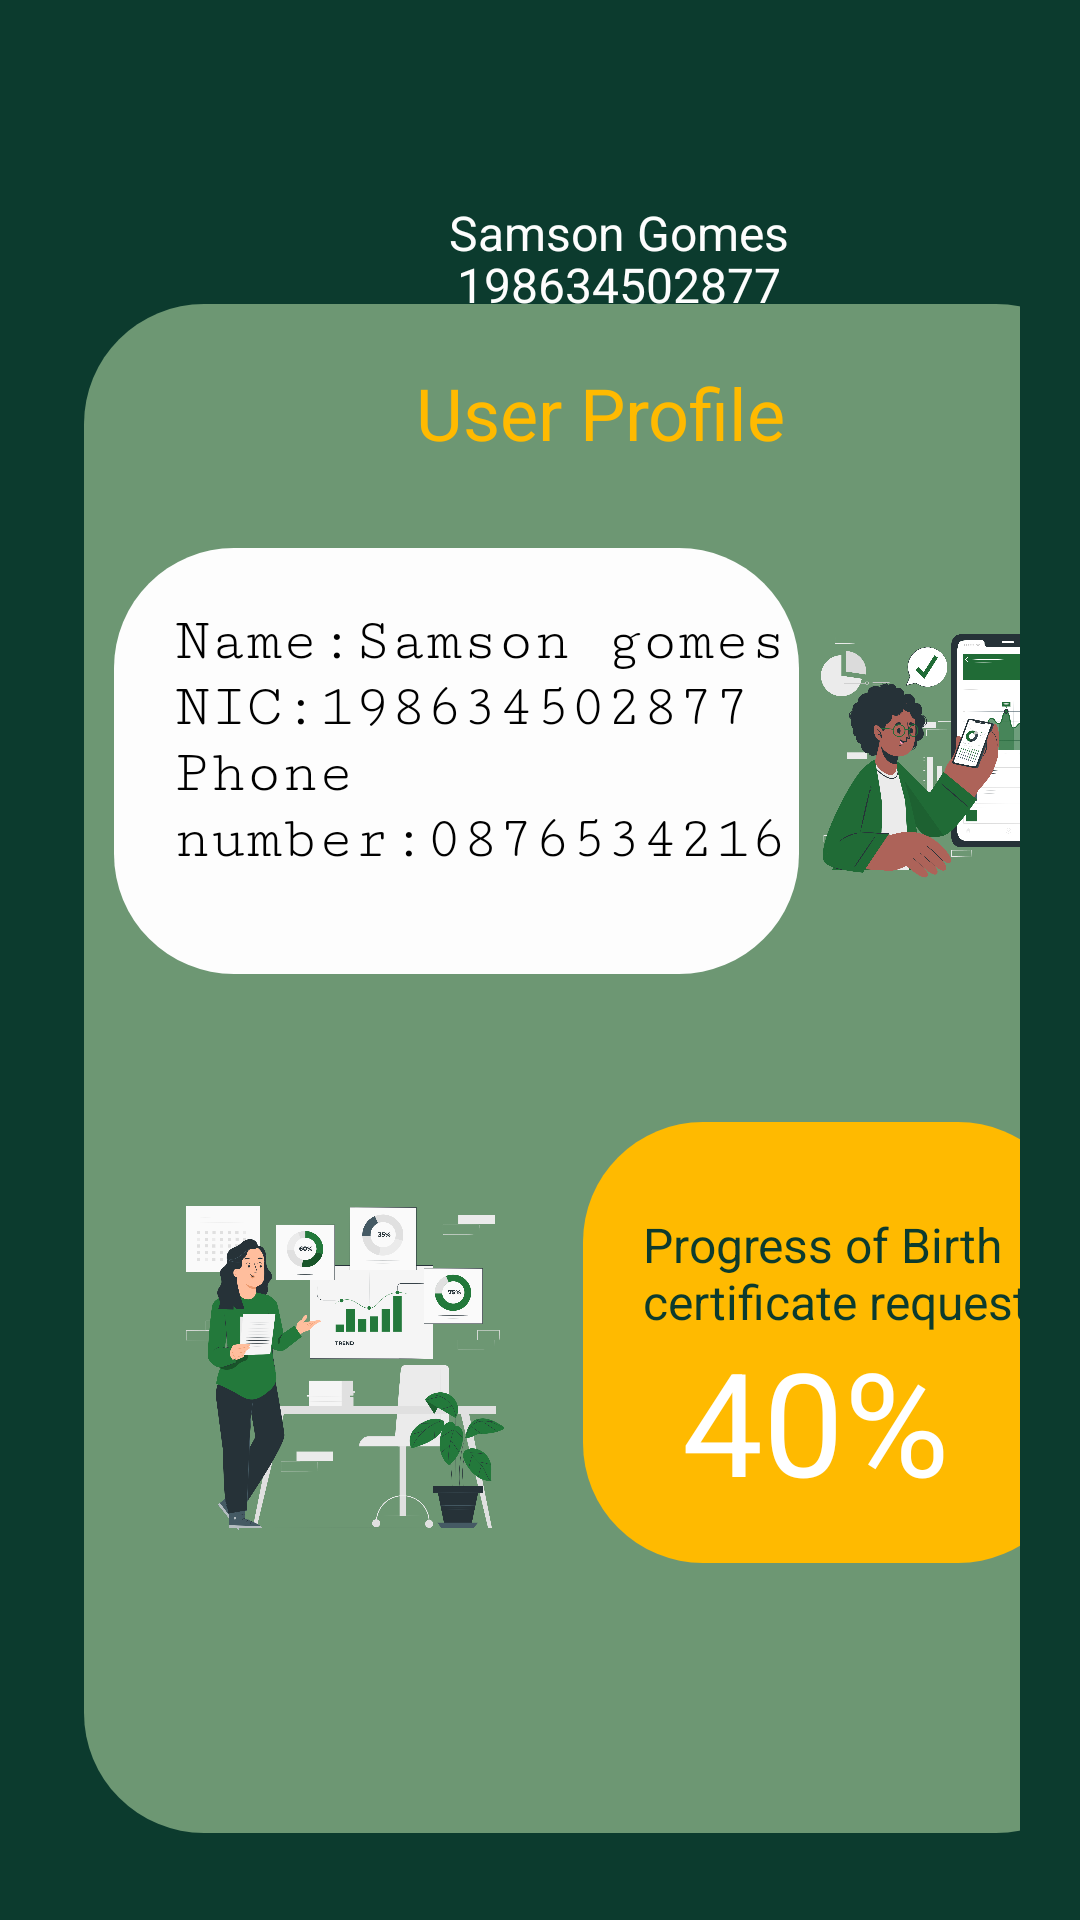

Where to tap for icons on this 1080px×1920px app screen, as [x,y]:
progress overview pana: [345,1368]
